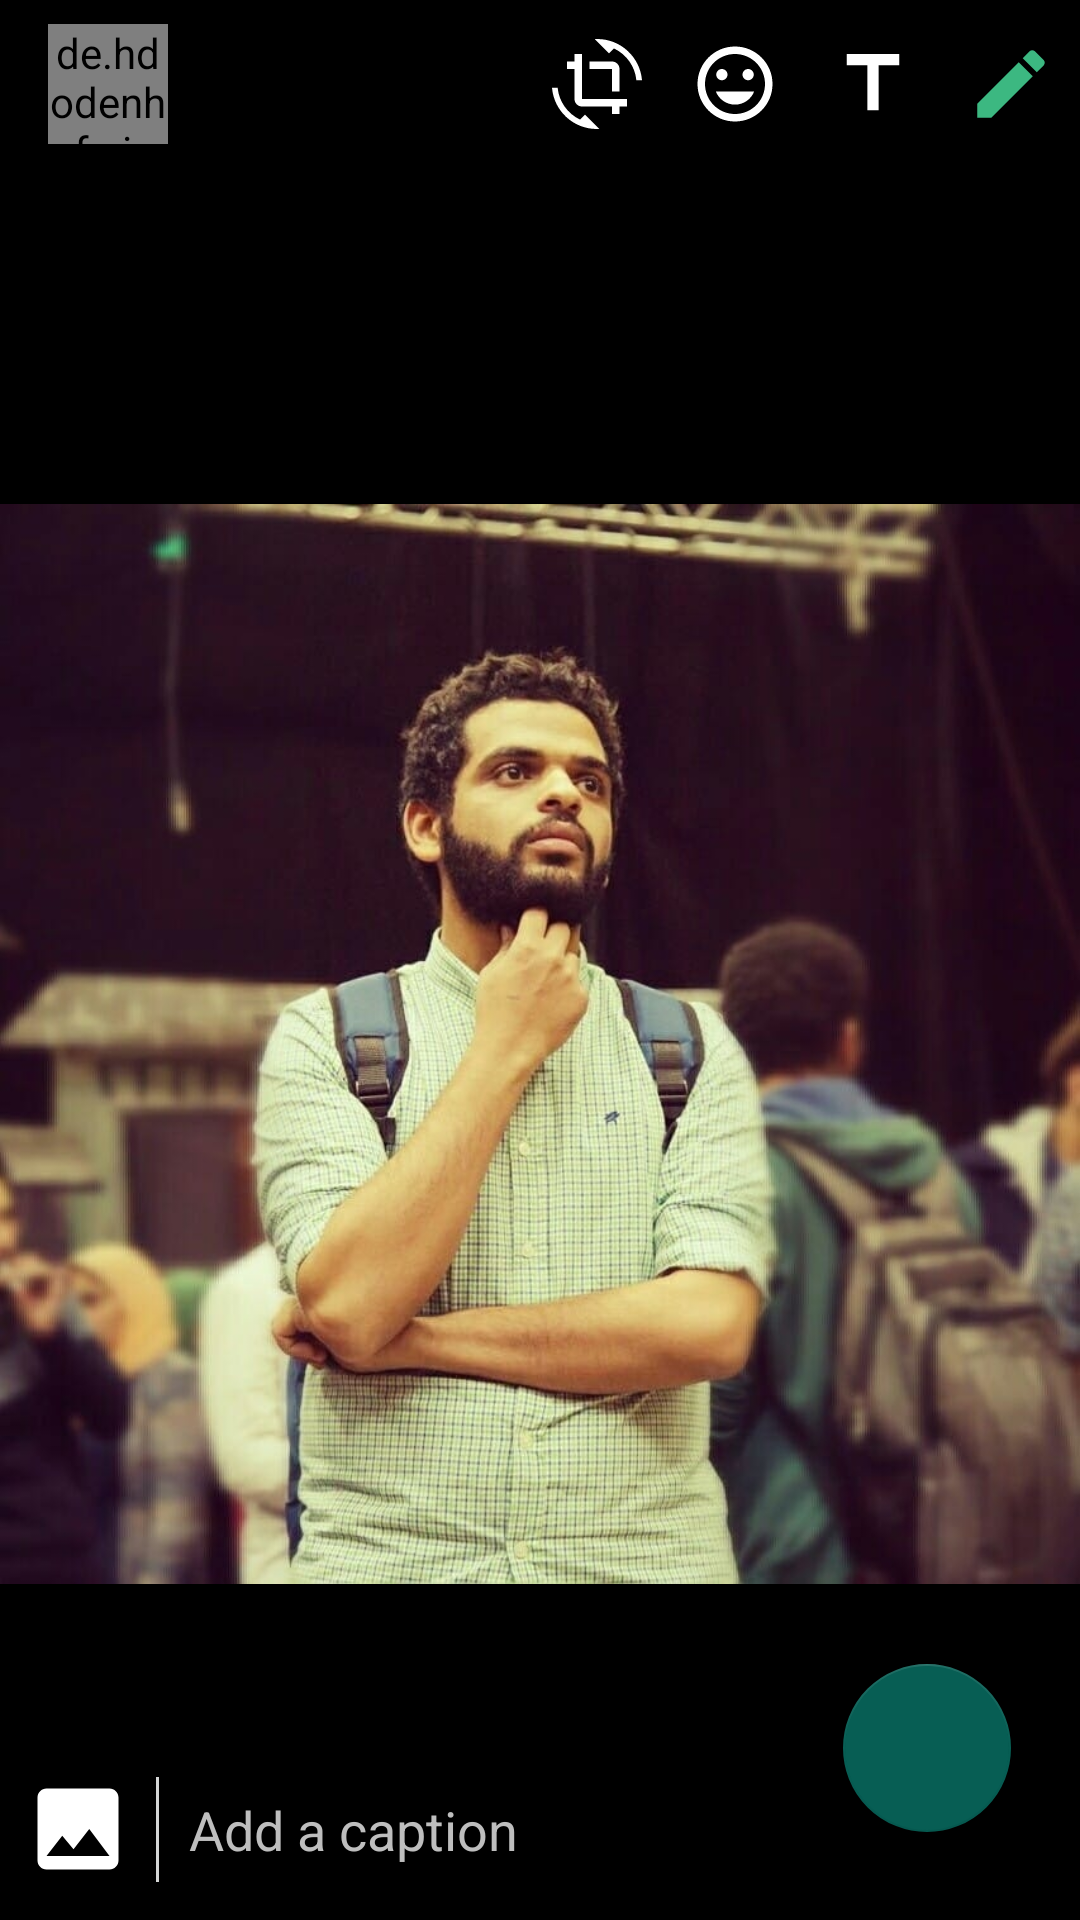

Named icons in this screenshot (1080w x 1920h) and their centers, point (x, y):
crop rotate: point (597, 84)
edit: point (1011, 84)
tag face: point (735, 84)
title: point (873, 82)
